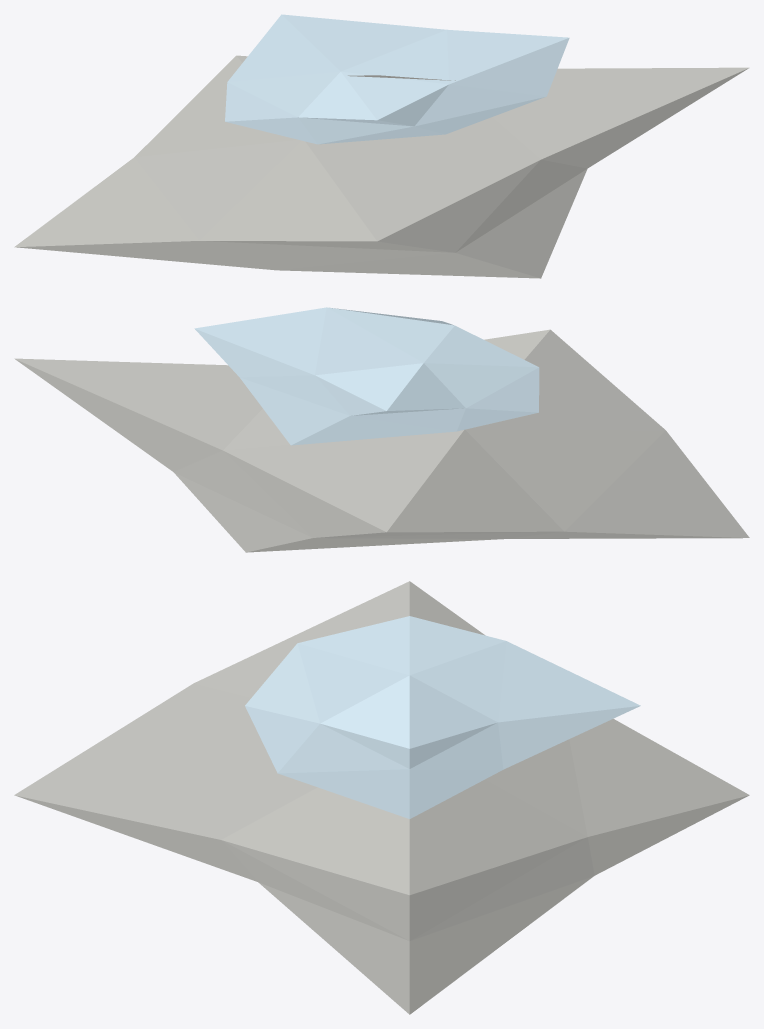
Rendered from puddle_stone_v36.glb.
3 views of the same model, one above another, from view 1: azimuth 30°, elevation 25°; view 2: azimuth 150°, elevation 25°; view 3: azimuth 270°, elevation 25° (orthographic). The views are drawn at different scales.
Parts seen in each view (by area): view 1: lod0; view 2: lod0; view 3: lod0.
Part boxes in pixels (x1,y1,x2,y2): lod0: (14,14,749,278); lod0: (14,307,749,552); lod0: (14,581,749,1014).
Size of what is drawn, in the model's own units: 0.7282 by 0.1765 by 0.5222.
